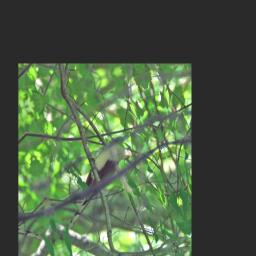Cuckoo: (48, 135, 148, 235)
